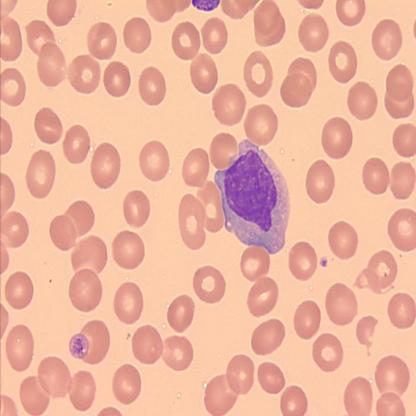Myelocyte: (218, 138, 294, 252)
